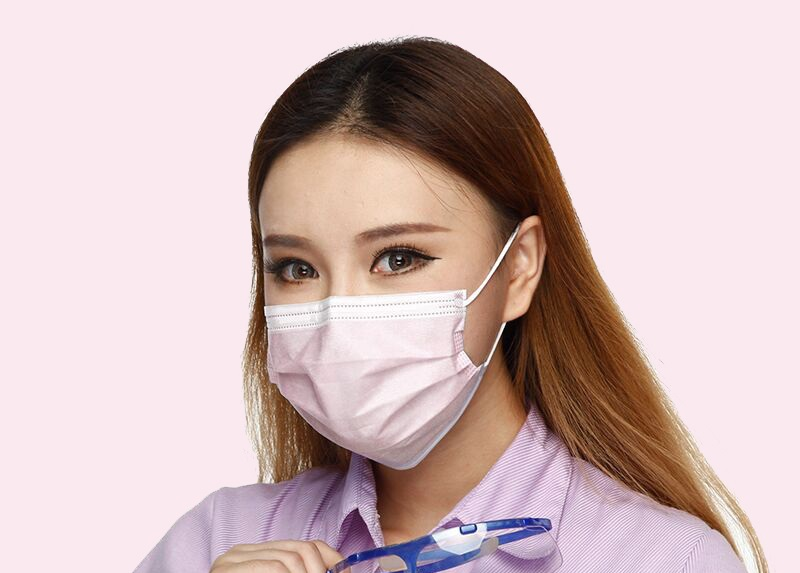face_mask: (259, 142, 483, 466)
